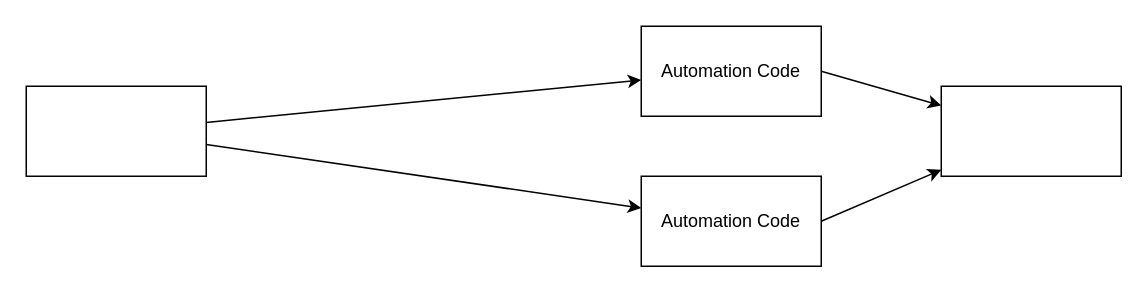
This 1148x293 diagram has some shape labels left out. Here are the shapes that lost their labels. From the top down, the box of each, then its label:
(25, 85, 206, 176): Step Definition
(940, 85, 1121, 176): Application
